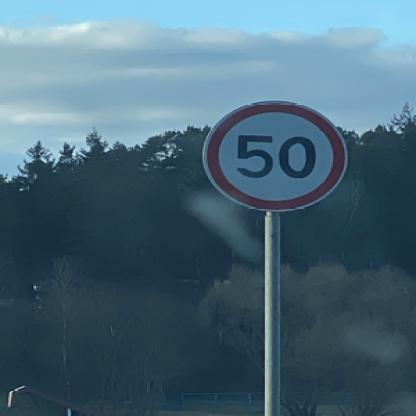Speed Limit 50: (201, 102, 348, 211)
